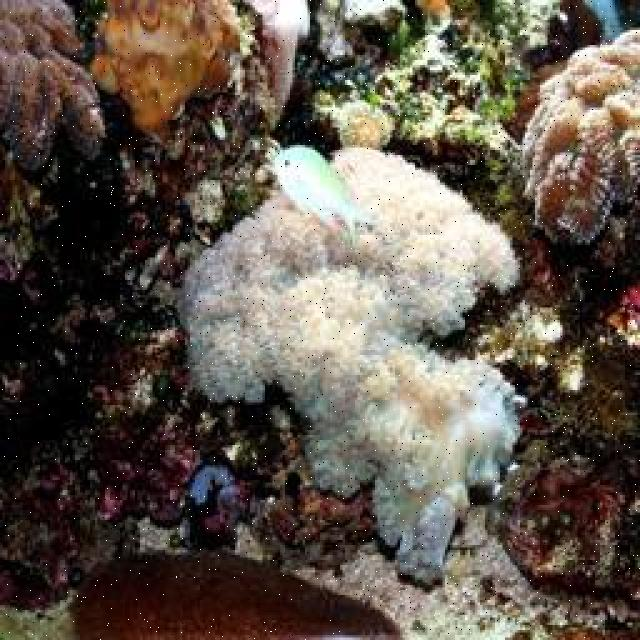fish: (263, 144, 380, 245)
reefs: (176, 146, 529, 585), (519, 30, 638, 242), (86, 1, 244, 142), (0, 0, 107, 174), (340, 99, 393, 147)
